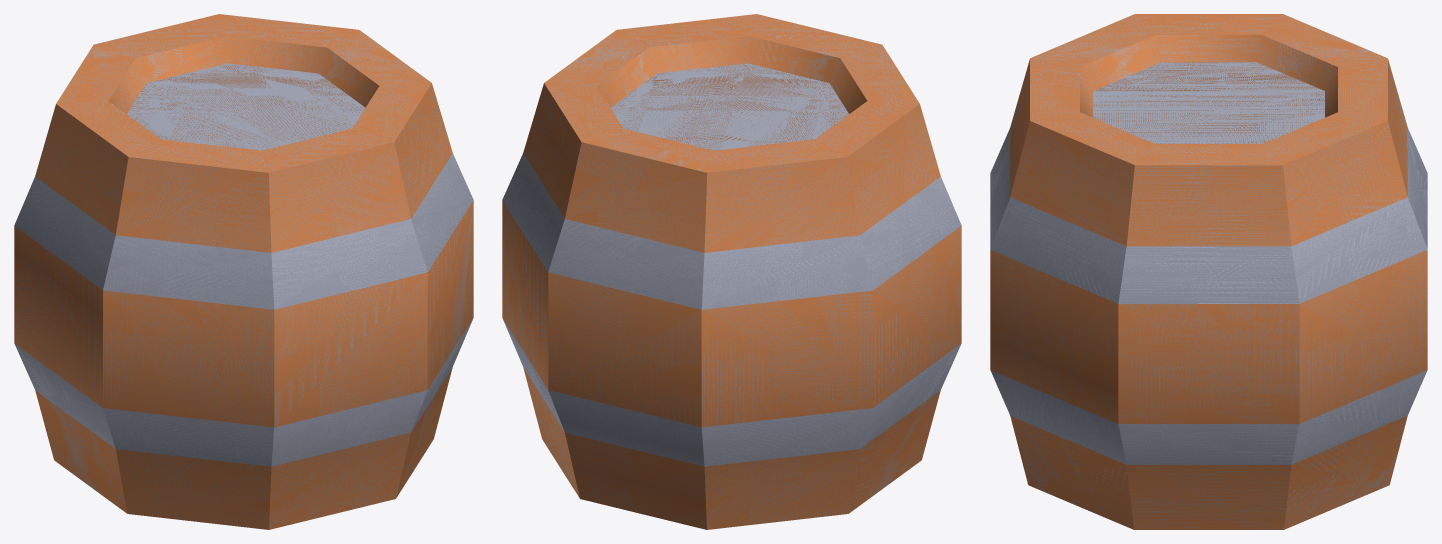
The model's file is barrel.obj.
3 views of the same model, side by side, from view 1: azimuth 30°, elevation 25°; view 2: azimuth 150°, elevation 25°; view 3: azimuth 270°, elevation 25° (orthographic). The views are drawn at different scales.
Parts seen in each view (by area): view 1: barrel; view 2: barrel; view 3: barrel.
Part boxes in pixels (bbox=[...]): barrel: bbox=[14, 14, 473, 529]; barrel: bbox=[502, 14, 961, 529]; barrel: bbox=[990, 14, 1427, 529].
Bounding box in the file's own units: 0.4358 × 0.4002 × 0.4358.
